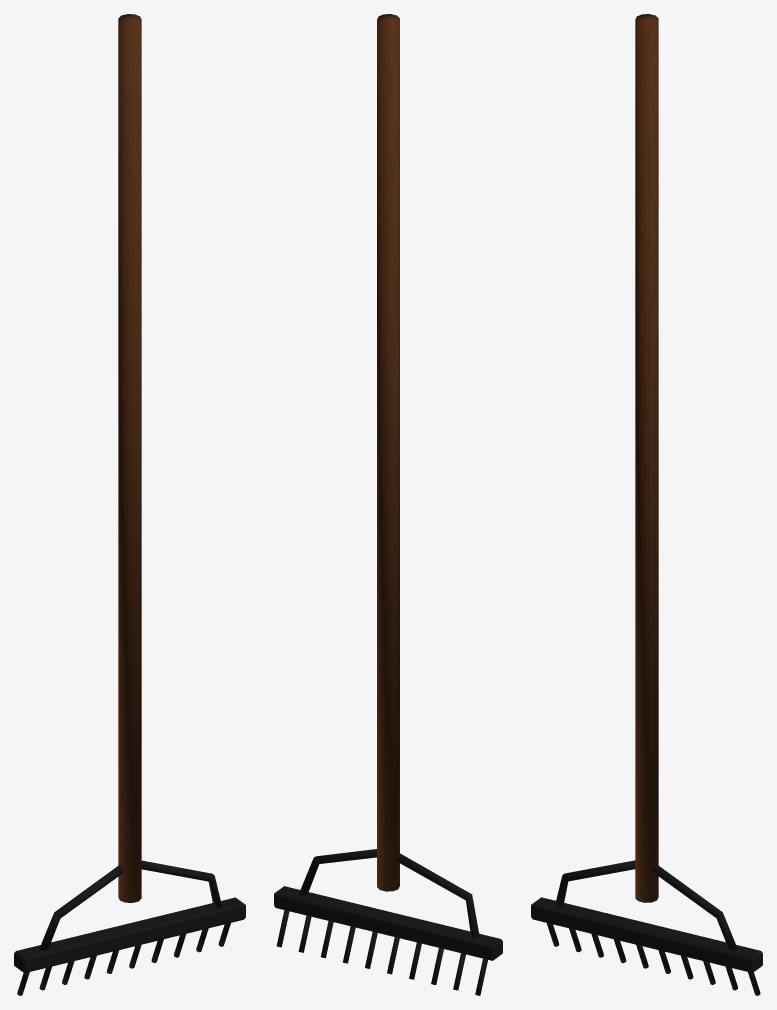
File: BowRake.gltf
The picture shows the model from 3 angles, left to right: view 1: azimuth 30°, elevation 25°; view 2: azimuth 150°, elevation 25°; view 3: azimuth 330°, elevation 25°; orthographic projection.
Visible parts, largest first — view 1: BowRake__Body; view 2: BowRake__Body; view 3: BowRake__Body.
Boxes of the visible parts, left/top/right/bottom form: BowRake__Body: left=14, top=14, right=245, bottom=995; BowRake__Body: left=274, top=14, right=502, bottom=995; BowRake__Body: left=531, top=14, right=762, bottom=995.
Size of the model in its own units: 0.406 by 1.66 by 0.0555.
Materials: 1 (1 with a texture image).
